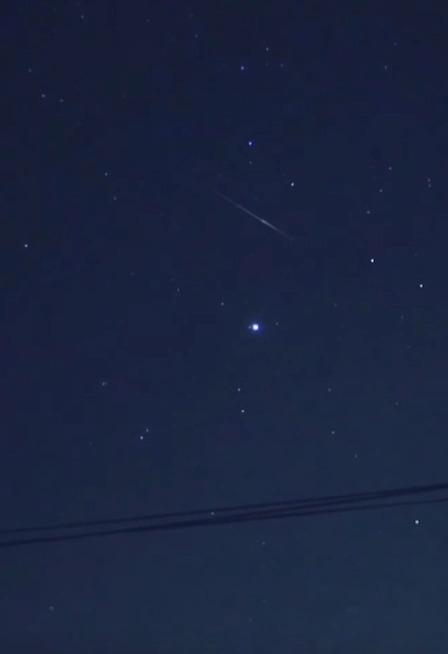meteorite: (208, 185, 294, 244)
